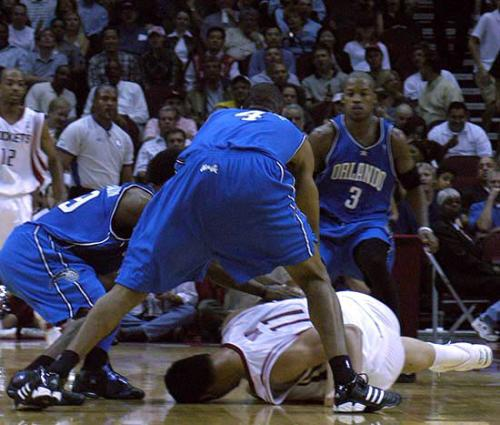10+: (1, 1, 500, 417)
down: (159, 288, 496, 412)
